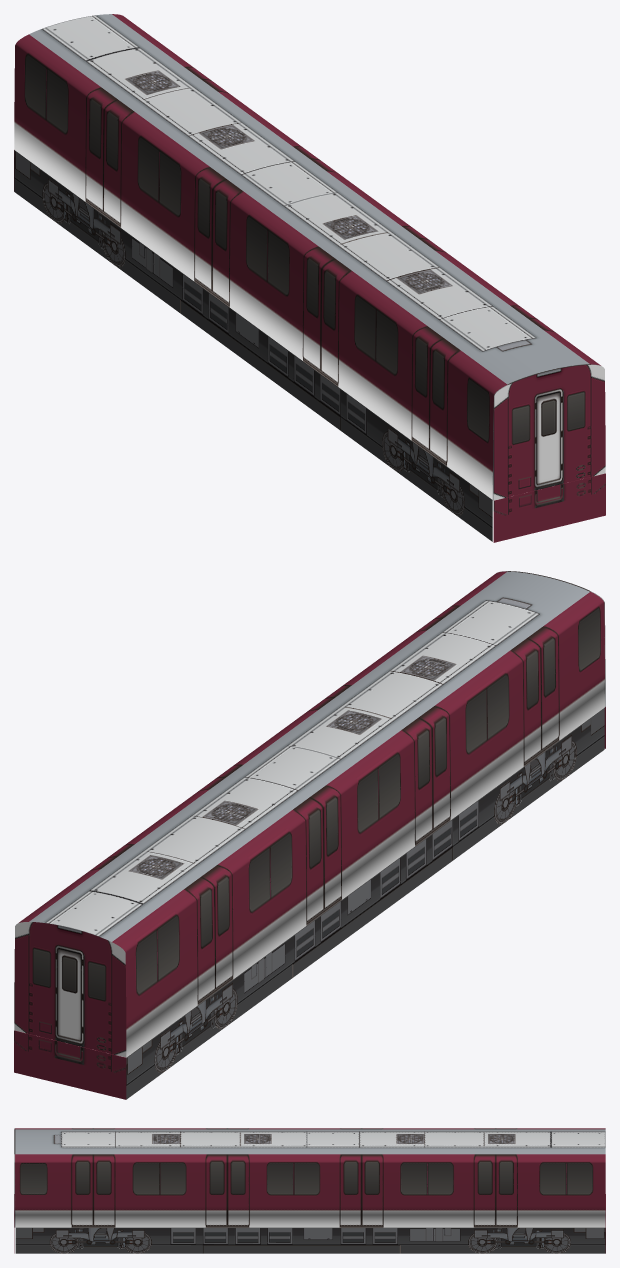
The model's file is car3.glb.
3 renders of one model, top to bottom at view 1: azimuth 30°, elevation 25°; view 2: azimuth 150°, elevation 25°; view 3: azimuth 270°, elevation 25°, orthographic. The views are drawn at different scales.
Parts seen in each view (by area): view 1: kintetsu-8600-car3; view 2: kintetsu-8600-car3; view 3: kintetsu-8600-car3.
Part boxes in pixels (<box>): kintetsu-8600-car3: <box>14,14,605,542</box>; kintetsu-8600-car3: <box>14,571,605,1099</box>; kintetsu-8600-car3: <box>14,1128,605,1253</box>.
Bounding box in the file's own units: 2.8 × 3.77 × 20.75.
8 materials, 7 textured.
